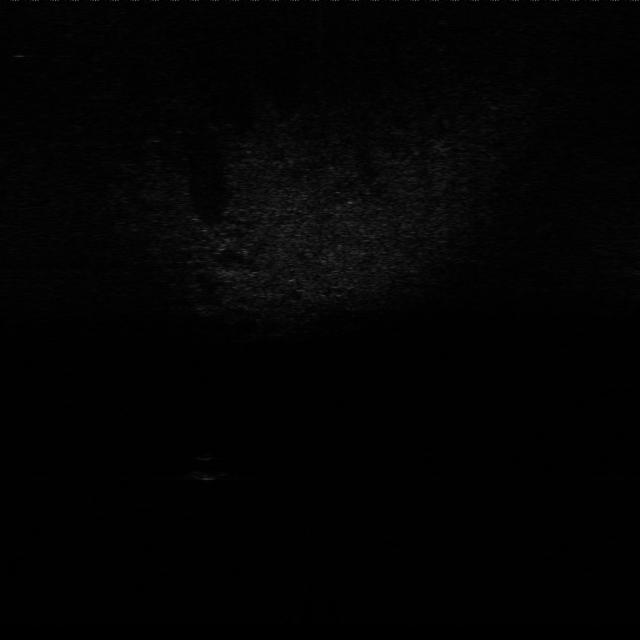ball: (187, 451, 231, 482)
